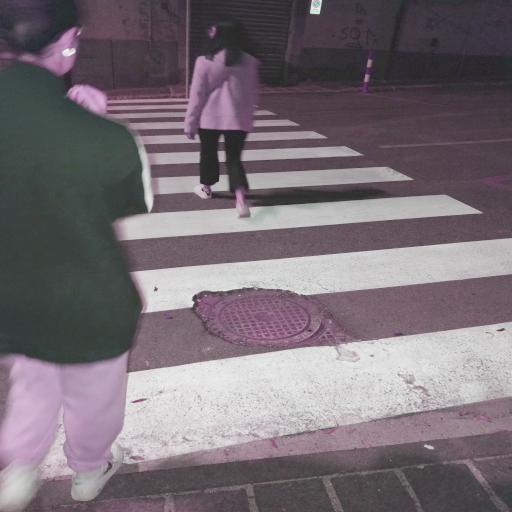crosswalk: (104, 160, 492, 248)
